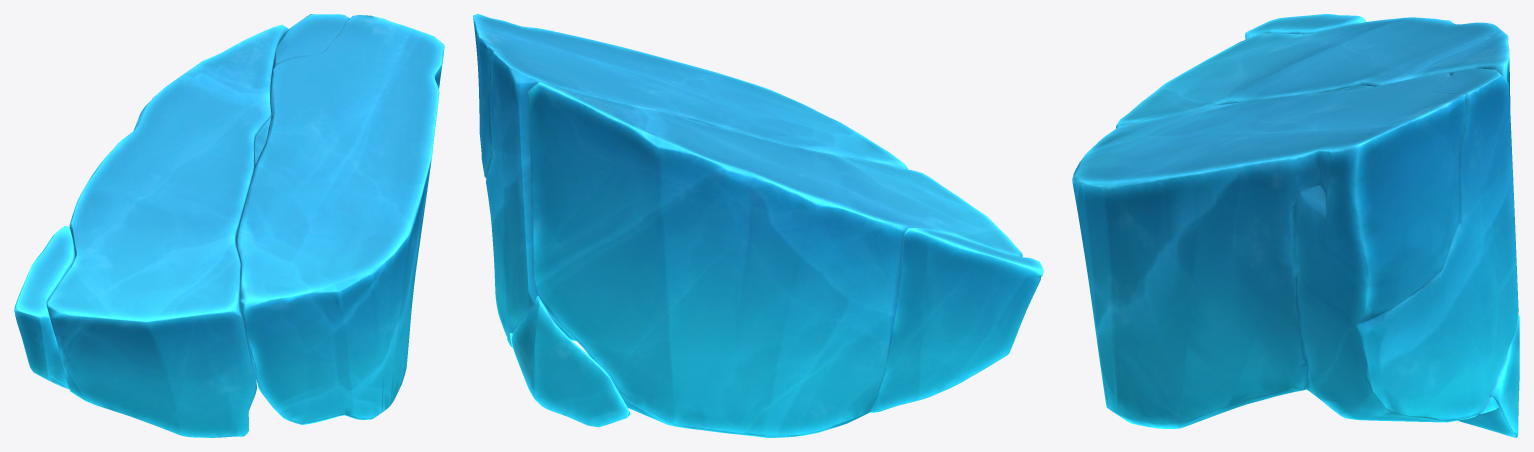
The model's file is odk_calcite_a.glb.
3 views of the same model, side by side, from view 1: azimuth 30°, elevation 25°; view 2: azimuth 150°, elevation 25°; view 3: azimuth 270°, elevation 25° (orthographic). The views are drawn at different scales.
Visible parts, largest first — view 1: odk_calcite_a; view 2: odk_calcite_a; view 3: odk_calcite_a.
Boxes of the visible parts, left/top/right/bottom form: odk_calcite_a: left=14, top=14, right=444, bottom=437; odk_calcite_a: left=473, top=14, right=1043, bottom=437; odk_calcite_a: left=1072, top=14, right=1519, bottom=437.
Bounding box in the file's own units: 32.1 × 19.35 × 19.66.
1 material, 1 textured.
